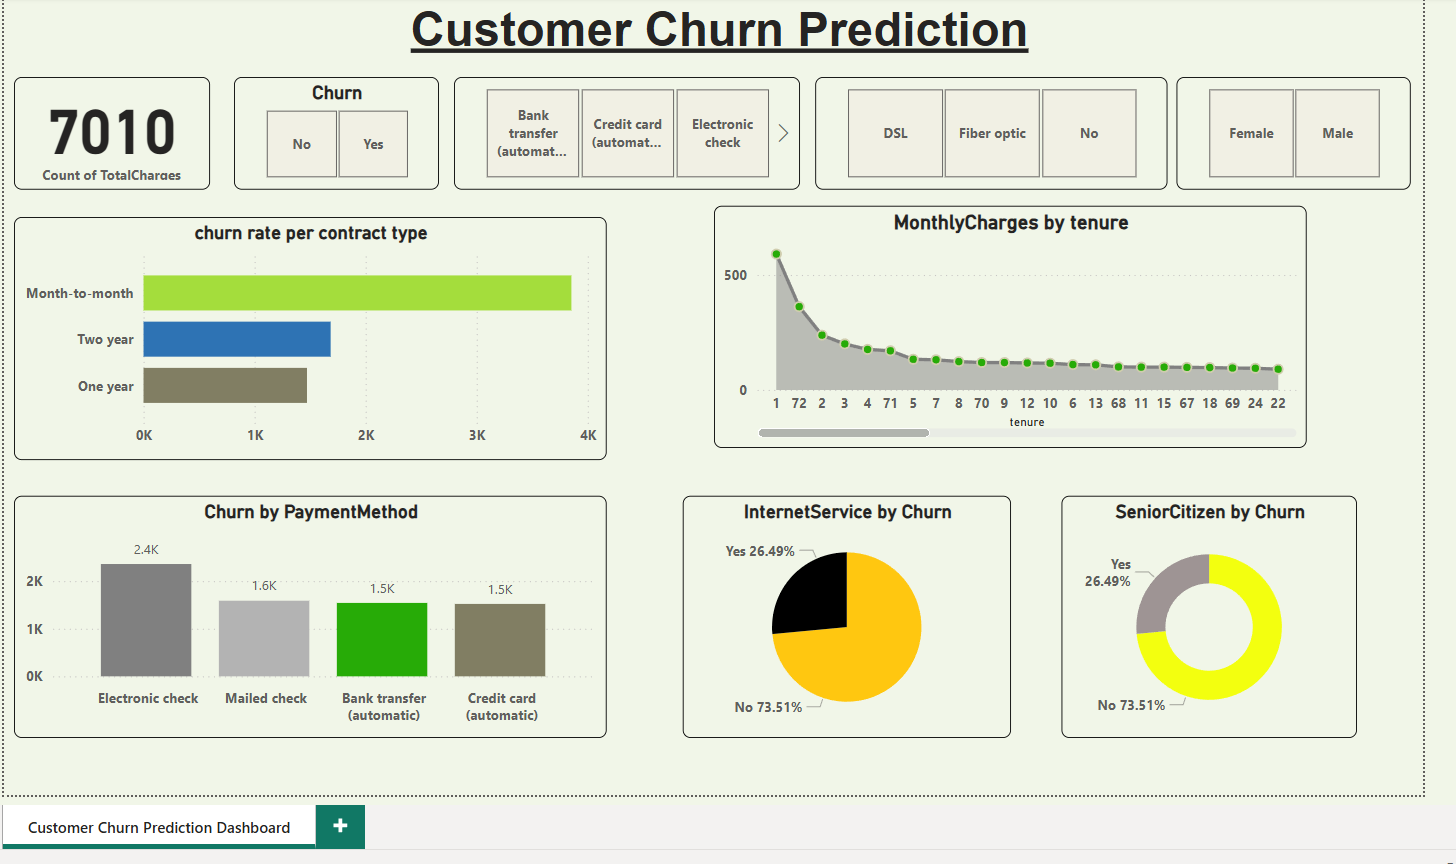

What the dashboard file says about the page in this screenshot:
{"tool":"powerbi","page":{"name":"Customer Churn Prediction Dashboard","canvas":[1280,720],"ordinal":0},"visuals":[{"type":"textbox","box":[9.7,0,1270.3,72.3],"z":0},{"type":"clusteredBarChart","title":"churn rate per contract type","fields":{"Y":["CountNonNull(Telco-Customer-Churn-Cleaned.Churn)"],"Category":["Telco-Customer-Churn-Cleaned.Contract"]},"box":[9.5,197.9,534.5,219.3],"z":1000},{"type":"areaChart","title":" MonthlyCharges by tenure","fields":{"Category":["Telco-Customer-Churn-Cleaned.tenure"],"Y":["CountNonNull(Telco-Customer-Churn-Cleaned.MonthlyCharges)"]},"box":[640,188.4,534.5,218.1],"z":2000},{"type":"clusteredColumnChart","title":" Churn by PaymentMethod","fields":{"Category":["Telco-Customer-Churn-Cleaned.PaymentMethod"],"Y":["CountNonNull(Telco-Customer-Churn-Cleaned.Churn)"]},"box":[9.5,449.2,534.5,218.1],"z":3000},{"type":"pieChart","title":" InternetService by Churn","fields":{"Category":["Telco-Customer-Churn-Cleaned.Churn"],"Y":["CountNonNull(Telco-Customer-Churn-Cleaned.InternetService)"]},"box":[611.6,449.2,296.3,218.1],"z":4000},{"type":"donutChart","title":" SeniorCitizen by Churn","fields":{"Category":["Telco-Customer-Churn-Cleaned.Churn"],"Y":["CountNonNull(Telco-Customer-Churn-Cleaned.SeniorCitizen)"]},"box":[954.1,449.2,266.7,218.1],"z":5000},{"type":"slicer","fields":{"Values":["Telco-Customer-Churn-Cleaned.gender"]},"box":[1057.2,72.3,211,101.9],"z":6000},{"type":"slicer","fields":{"Values":["Telco-Customer-Churn-Cleaned.InternetService"]},"box":[731.3,72.3,317.6,101.9],"z":7000},{"type":"slicer","fields":{"Values":["Telco-Customer-Churn-Cleaned.PaymentMethod"]},"box":[405.3,72.3,311.7,101.9],"z":8000},{"type":"card","fields":{"Values":["CountNonNull(Telco-Customer-Churn-Cleaned.TotalCharges)"]},"box":[9.5,72.3,176.6,101.9],"z":8001},{"type":"slicer","title":"Churn","fields":{"Values":["Telco-Customer-Churn-Cleaned.Churn"]},"box":[207.4,72.3,184.9,101.9],"z":8002}]}

Visuals, with their boxes in screenshot pixels (x1, y1, x2, y2):
textbox: (left=3, top=0, right=1428, bottom=74)
"churn rate per contract type" clusteredBarChart: (left=3, top=214, right=603, bottom=460)
" MonthlyCharges by tenure" areaChart: (left=710, top=204, right=1310, bottom=448)
" Churn by PaymentMethod" clusteredColumnChart: (left=3, top=496, right=603, bottom=741)
" InternetService by Churn" pieChart: (left=678, top=496, right=1011, bottom=741)
" SeniorCitizen by Churn" donutChart: (left=1063, top=496, right=1362, bottom=741)
slicer - Telco-Customer-Churn-Cleaned.gender: (left=1178, top=74, right=1415, bottom=188)
slicer - Telco-Customer-Churn-Cleaned.InternetService: (left=813, top=74, right=1169, bottom=188)
slicer - Telco-Customer-Churn-Cleaned.PaymentMethod: (left=447, top=74, right=797, bottom=188)
card - CountNonNull(Telco-Customer-Churn-Cleaned.TotalCharges): (left=3, top=74, right=201, bottom=188)
"Churn" slicer: (left=225, top=74, right=432, bottom=188)
